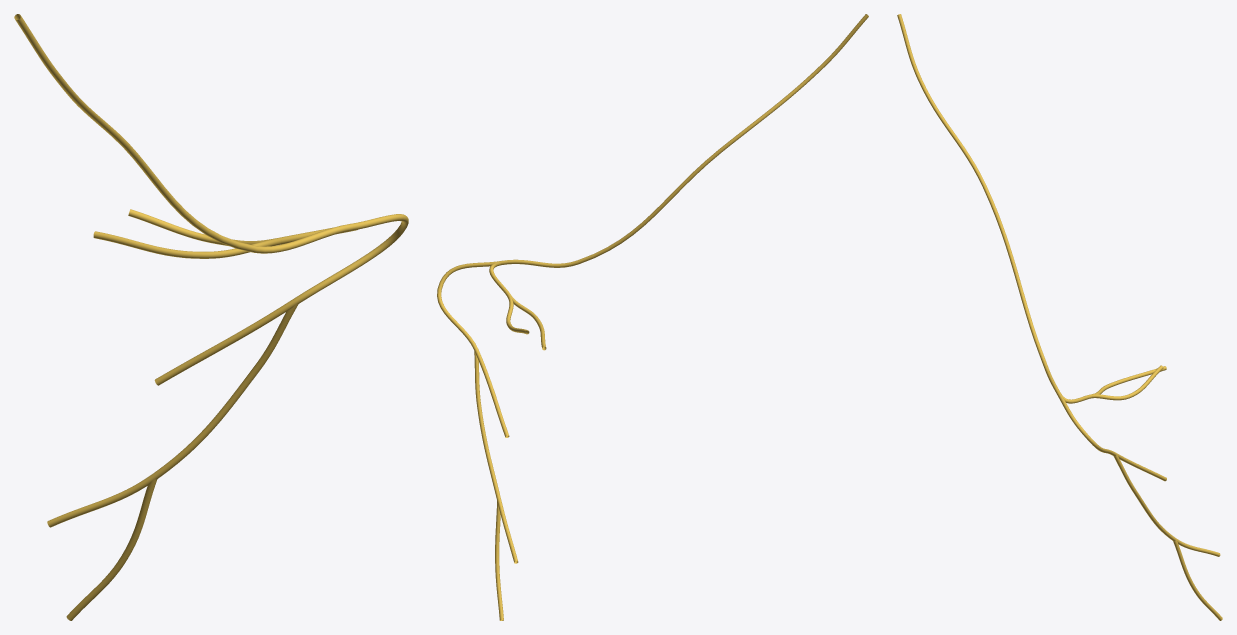
The model's file is Suprascapular_nerve_left.glb.
The picture shows the model from 3 angles, left to right: view 1: azimuth 30°, elevation 25°; view 2: azimuth 150°, elevation 25°; view 3: azimuth 270°, elevation 25°; orthographic projection. The views are drawn at different scales.
Visible parts, largest first — view 1: Suprascapular_nerve.l_BezierCurve.400; view 2: Suprascapular_nerve.l_BezierCurve.400; view 3: Suprascapular_nerve.l_BezierCurve.400.
Boxes of the visible parts, left/top/right/bottom form: Suprascapular_nerve.l_BezierCurve.400: left=14, top=14, right=408, bottom=620; Suprascapular_nerve.l_BezierCurve.400: left=437, top=14, right=868, bottom=620; Suprascapular_nerve.l_BezierCurve.400: left=897, top=14, right=1222, bottom=620.
Bounding box in the file's own units: 0.0895 × 0.1374 × 0.079.
